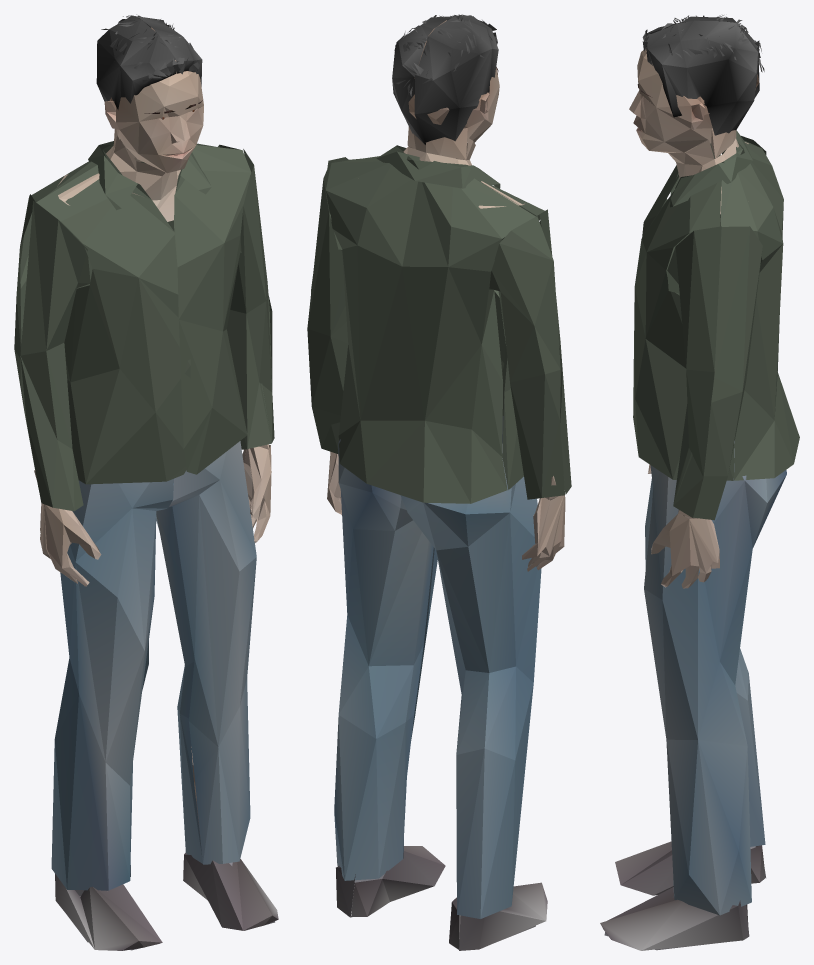
The model's file is person-3-far.glb.
The picture shows the model from 3 angles, left to right: view 1: azimuth 30°, elevation 25°; view 2: azimuth 150°, elevation 25°; view 3: azimuth 270°, elevation 25°; orthographic projection.
Visible parts, largest first — view 1: person-3 far; view 2: person-3 far; view 3: person-3 far.
Boxes of the visible parts, <box> form: person-3 far: <box>14,14,278,950</box>; person-3 far: <box>307,14,571,950</box>; person-3 far: <box>600,15,799,950</box>.
Bounding box in the file's own units: 0.5197 × 1.76 × 0.3599.
